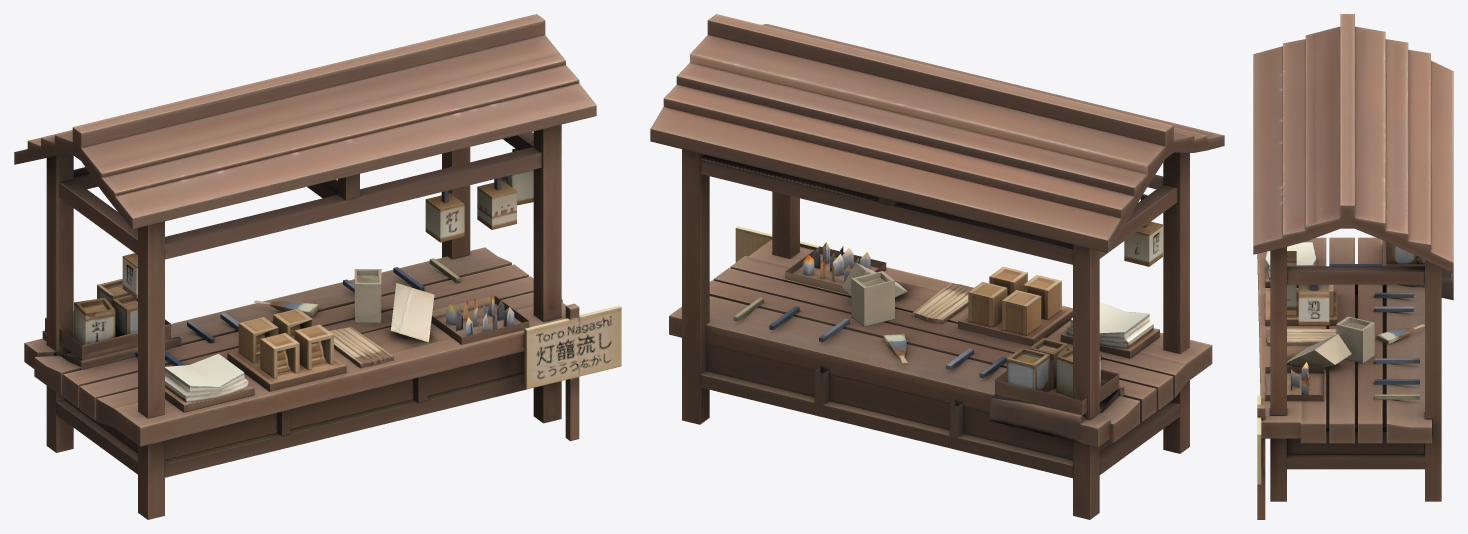
The model's file is puesto.obj.
3 renders of one model, left to right at view 1: azimuth 30°, elevation 25°; view 2: azimuth 150°, elevation 25°; view 3: azimuth 270°, elevation 25°, orthographic. The views are drawn at different scales.
Parts seen in each view (by area): view 1: model; view 2: model; view 3: model.
Boxes of the visible parts, bbox=[...] form: model: bbox=[14, 14, 621, 519]; model: bbox=[650, 14, 1224, 519]; model: bbox=[1253, 14, 1453, 519].
Bounding box in the file's own units: 1.89 × 1.4 × 0.7889.
1 material, 1 textured.
